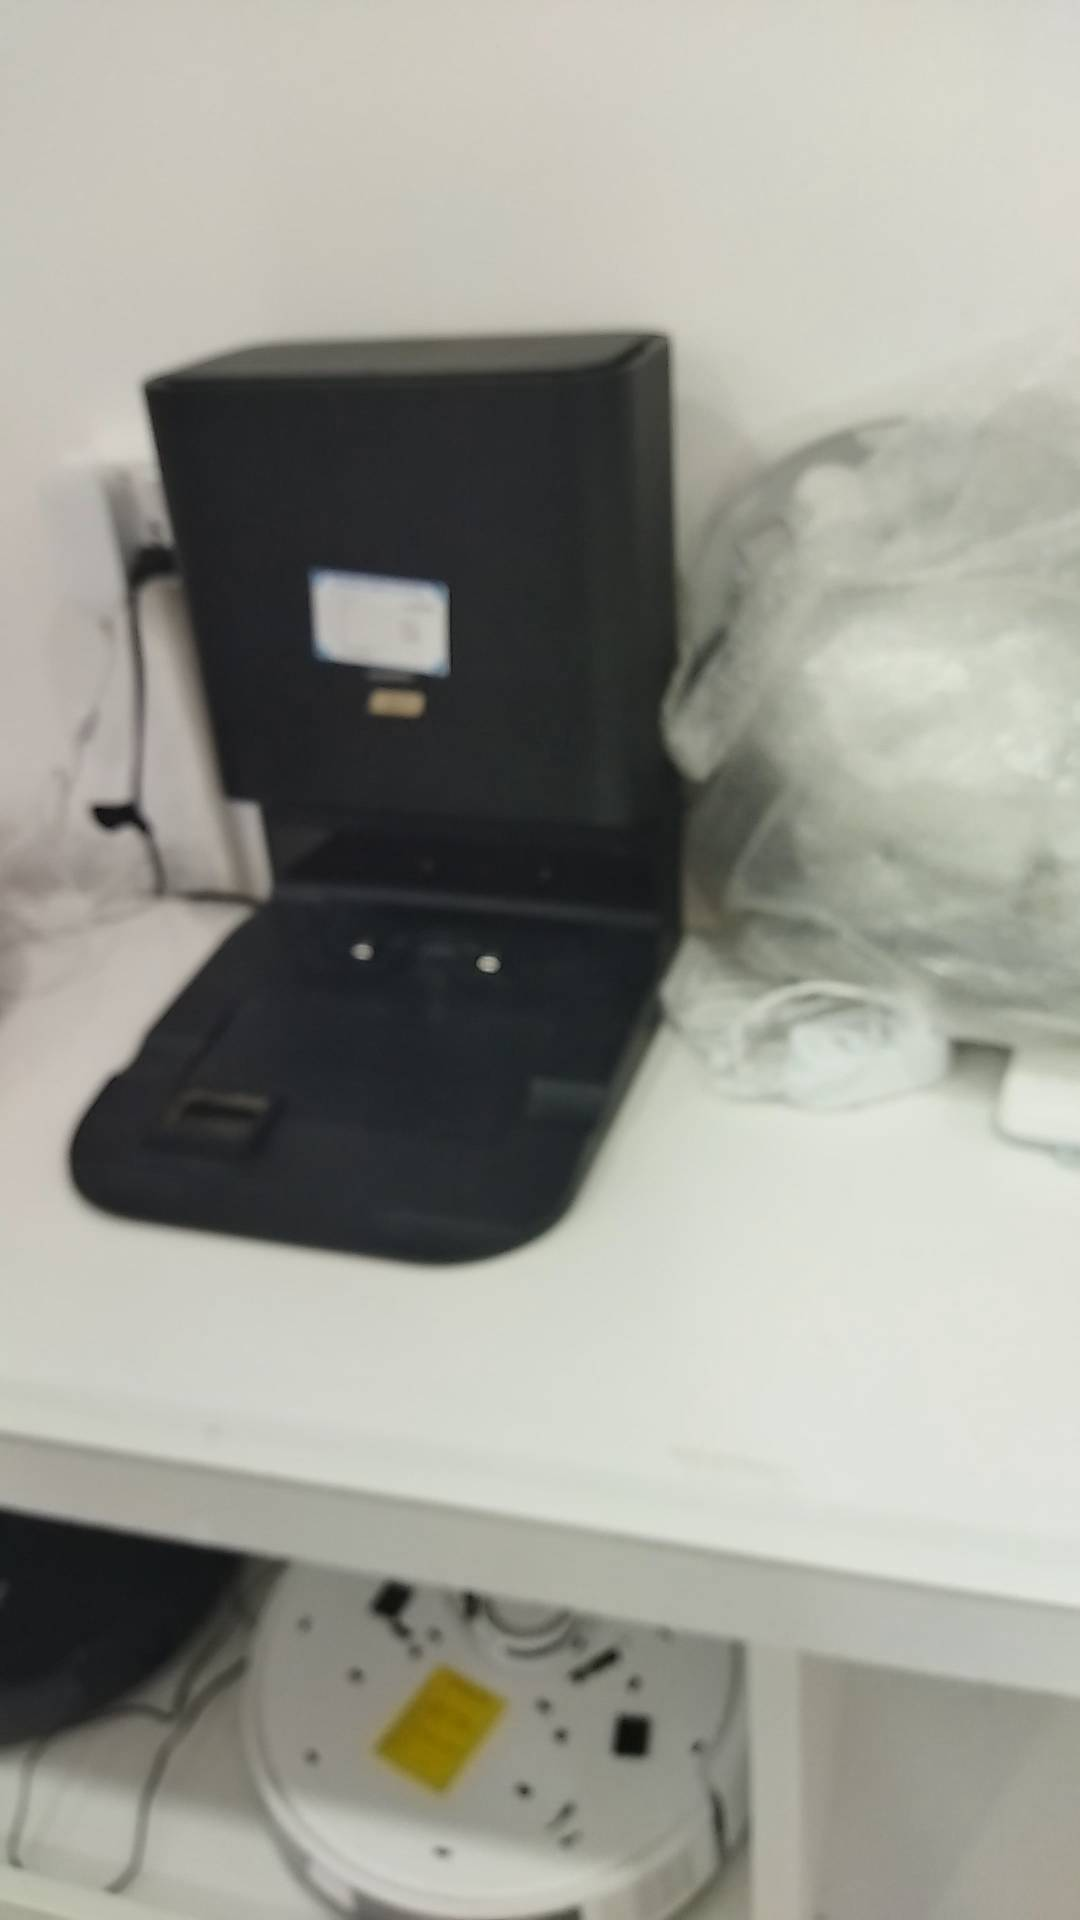dust collecting barrel: (73, 331, 699, 1273)
